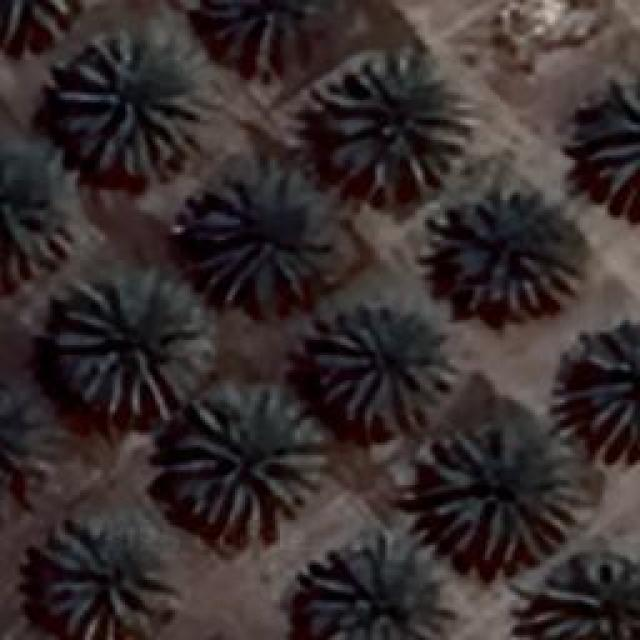PalmTree: (422, 417, 590, 565), (50, 270, 210, 422), (170, 385, 325, 540), (54, 32, 208, 180), (322, 49, 468, 202), (188, 162, 330, 308), (314, 302, 458, 430), (444, 187, 578, 315), (300, 534, 458, 638), (40, 518, 165, 638), (0, 140, 78, 275), (524, 555, 638, 635), (570, 322, 635, 450), (587, 72, 635, 212), (1, 376, 46, 509), (202, 0, 307, 52), (0, 0, 83, 57)
